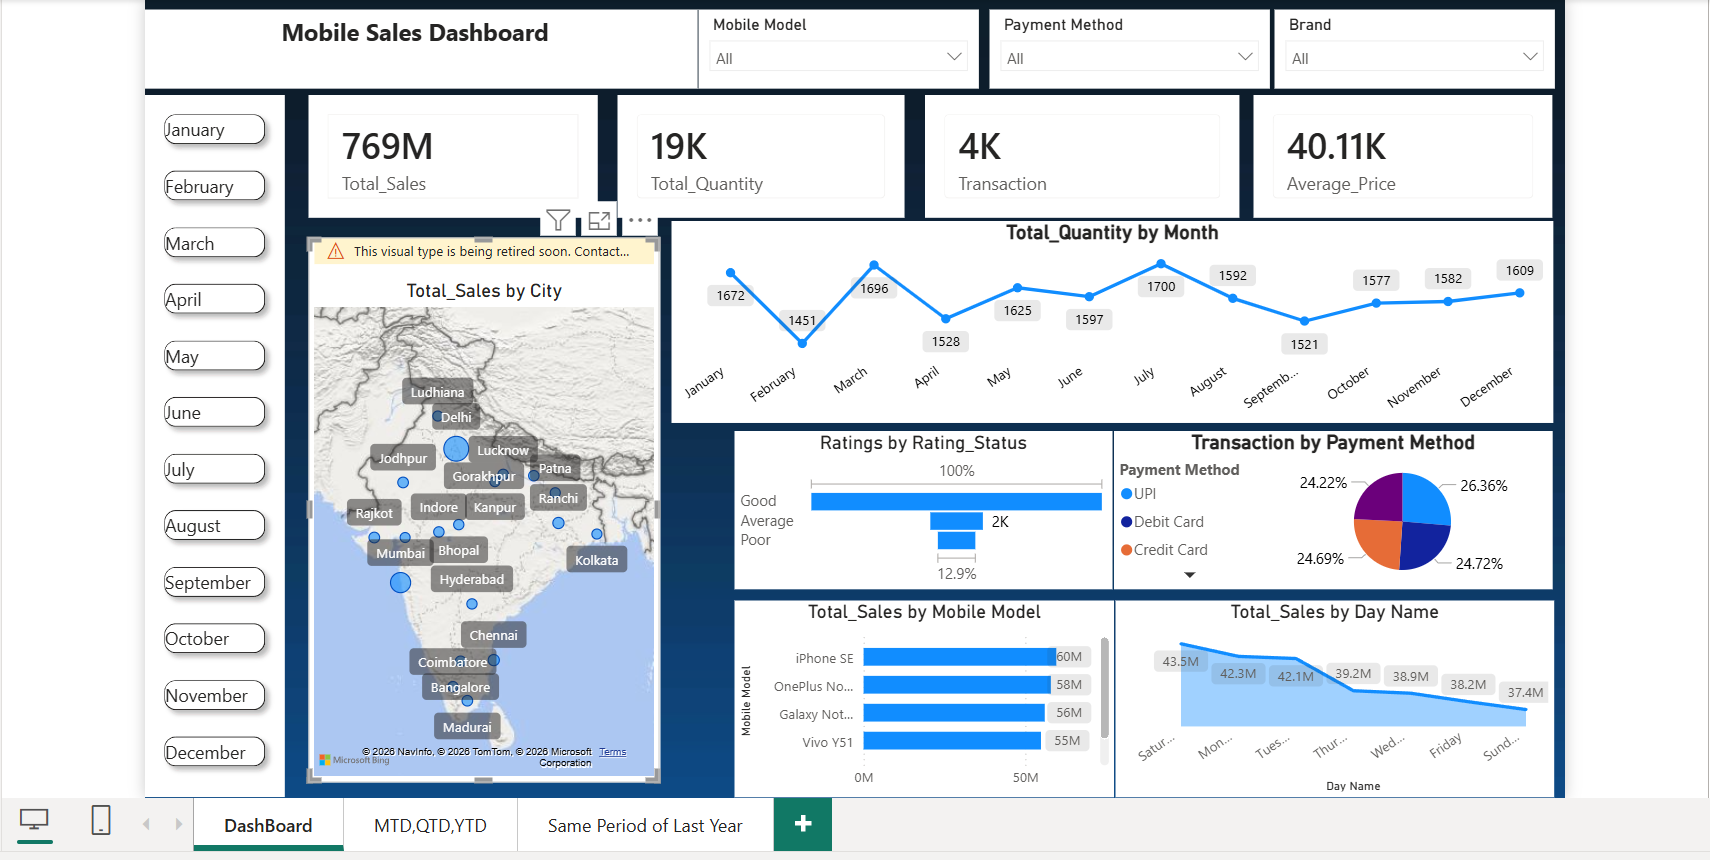

What the dashboard file says about the page in this screenshot:
{"tool":"powerbi","page":{"name":"DashBoard","canvas":[1280,720],"ordinal":0},"visuals":[{"type":"cardVisual","fields":{"Data":["Mobile_Sales.Total_Sales"]},"box":[146.9,86.3,260.4,110.5],"z":0},{"type":"cardVisual","fields":{"Data":["Mobile_Sales.Total_Quantity"]},"box":[425.5,86.3,258.9,110.5],"z":1},{"type":"cardVisual","fields":{"Data":["Mobile_Sales.Transaction"]},"box":[702.6,86.3,283.2,110.5],"z":2},{"type":"cardVisual","fields":{"Data":["Mobile_Sales.Average_Price"]},"box":[999.4,86.3,269.5,110.5],"z":3},{"type":"lineChart","fields":{"Category":["Custom_Calender.DATE.Variation.Date Hierarchy.Month"],"Y":["Mobile_Sales.Total_Quantity"]},"box":[473.9,199.9,795,181.7],"z":4},{"type":"pieChart","fields":{"Y":["Mobile_Sales.Transaction"],"Category":["Mobile_Sales.Payment Method"]},"box":[873.7,389.2,395.2,142.3],"z":5},{"type":"map","fields":{"Category":["Mobile_Sales.City"],"Size":["Mobile_Sales.Total_Sales"]},"box":[146.9,215,316.5,490.6],"z":6},{"type":"funnel","title":"Ratings by Rating_Status","fields":{"Y":["Sum(Mobile_Sales.Customer Ratings)"],"Category":["Mobile_Sales.Rating_Status"]},"box":[531.5,389.2,340.7,142.3],"z":7},{"type":"barChart","fields":{"Y":["Mobile_Sales.Total_Sales"],"Category":["Mobile_Sales.Mobile Model"]},"box":[531.5,542.1,342.2,177.2],"z":8},{"type":"areaChart","fields":{"Category":["Custom_Calender.Day Name"],"Y":["Mobile_Sales.Total_Sales"]},"box":[875.2,542.1,395.2,177.2],"z":9},{"type":"listSlicer","fields":{"Values":["Custom_Calender.DATE.Variation.Date Hierarchy.Month"]},"box":[0,86.3,125.7,632.9],"z":10},{"type":"slicer","fields":{"Values":["Mobile_Sales.Mobile Model"]},"box":[498.2,9.1,252.9,71.2],"z":11},{"type":"slicer","fields":{"Values":["Mobile_Sales.Payment Method"]},"box":[761.6,9.1,252.9,71.2],"z":12},{"type":"slicer","fields":{"Values":["Mobile_Sales.Brand"]},"box":[1017.5,9.1,252.9,71.2],"z":13},{"type":"textbox","box":[0,9.1,498.2,71.2],"z":14}]}

Visuals, with their boxes on the page's 1280x720 design canvas (x1, y1, x2, y2). These are canvas units, not pixel positions in the 1710x860 screenshot, which may show the page scaled, cropped or inside an application window:
cardVisual - Mobile_Sales.Total_Sales: BBox(147, 86, 407, 197)
cardVisual - Mobile_Sales.Total_Quantity: BBox(426, 86, 684, 197)
cardVisual - Mobile_Sales.Transaction: BBox(703, 86, 986, 197)
cardVisual - Mobile_Sales.Average_Price: BBox(999, 86, 1269, 197)
lineChart - Custom_Calender.DATE.Variation.Date Hierarchy.Month x Mobile_Sales.Total_Quantity: BBox(474, 200, 1269, 382)
pieChart - Mobile_Sales.Transaction x Mobile_Sales.Payment Method: BBox(874, 389, 1269, 532)
map - Mobile_Sales.City x Mobile_Sales.Total_Sales: BBox(147, 215, 463, 706)
"Ratings by Rating_Status" funnel: BBox(532, 389, 872, 532)
barChart - Mobile_Sales.Total_Sales x Mobile_Sales.Mobile Model: BBox(532, 542, 874, 719)
areaChart - Custom_Calender.Day Name x Mobile_Sales.Total_Sales: BBox(875, 542, 1270, 719)
listSlicer - Custom_Calender.DATE.Variation.Date Hierarchy.Month: BBox(0, 86, 126, 719)
slicer - Mobile_Sales.Mobile Model: BBox(498, 9, 751, 80)
slicer - Mobile_Sales.Payment Method: BBox(762, 9, 1014, 80)
slicer - Mobile_Sales.Brand: BBox(1018, 9, 1270, 80)
textbox: BBox(0, 9, 498, 80)
